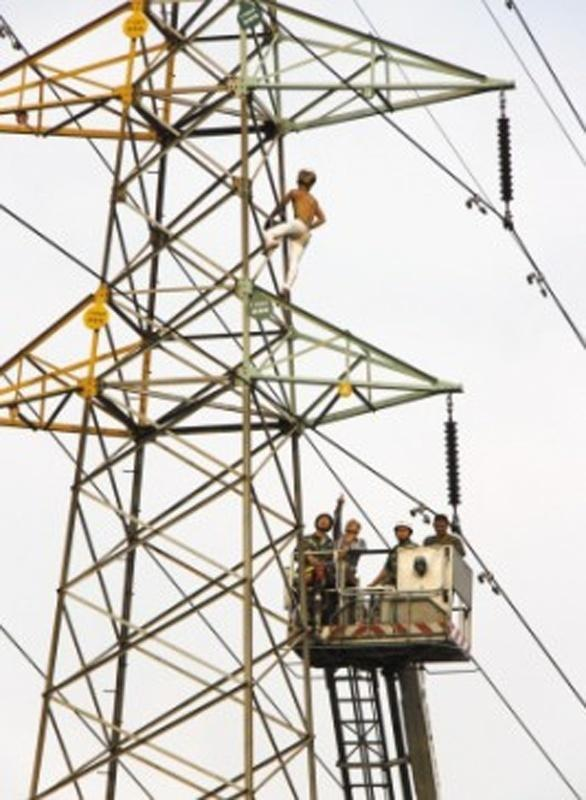power_tower: (5, 1, 498, 735)
